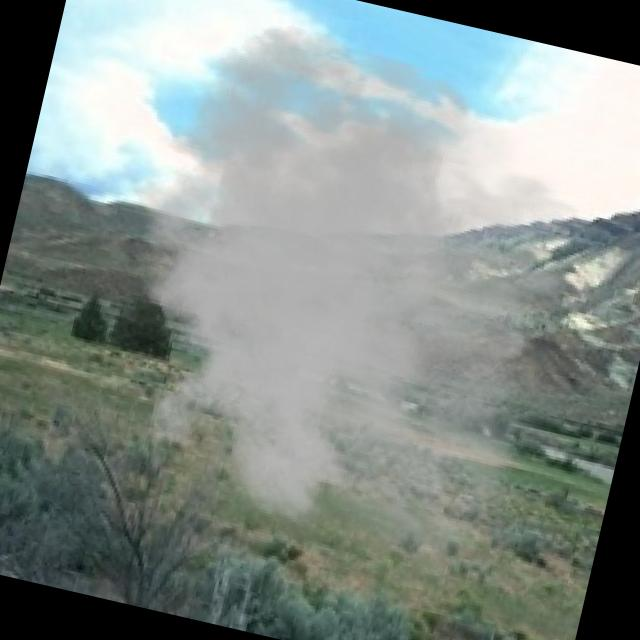Smoke: (41, 0, 640, 631)
